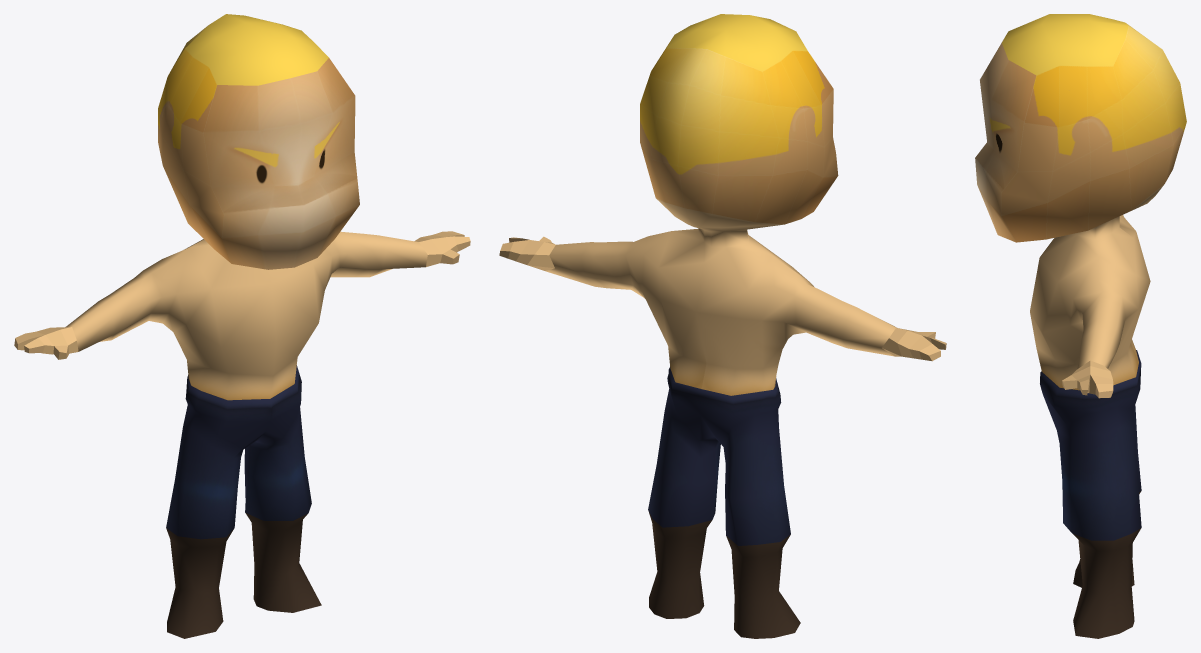
The model's file is corp.FBX.
3 views of the same model, side by side, from view 1: azimuth 30°, elevation 25°; view 2: azimuth 150°, elevation 25°; view 3: azimuth 270°, elevation 25° (orthographic). The views are drawn at different scales.
Visible parts, largest first — view 1: Box001; view 2: Box001; view 3: Box001.
Boxes of the visible parts, x1,y1,x2,y2 form: Box001: (14,14,470,638); Box001: (499,14,946,638); Box001: (975,14,1186,638).
Bounding box in the file's own units: 61.26 × 77.86 × 25.66.
Materials: 1 (1 with a texture image).
